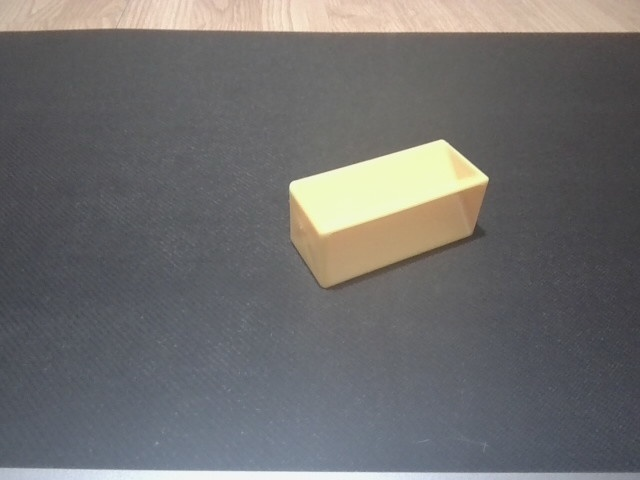YellowSample: (283, 136, 493, 291)
